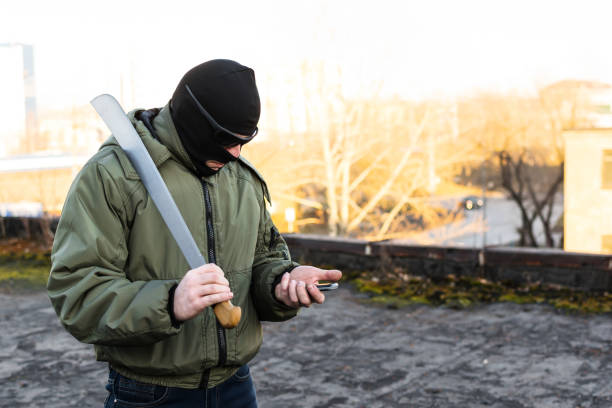knife: (89, 93, 241, 328)
